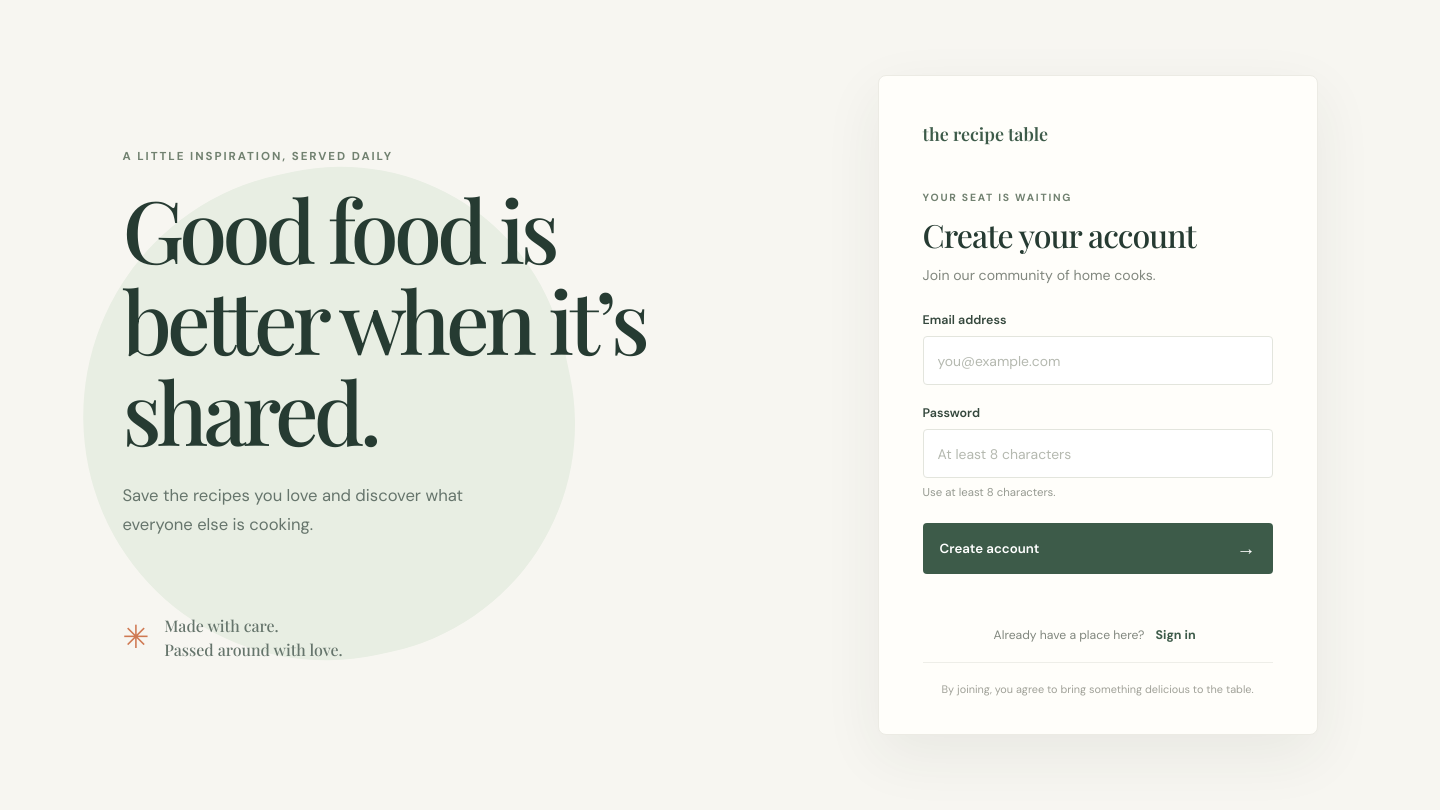
it: browser authentication › logs in through the cookie session and opens the recipe list
Click the button "Sign in". click: {"x": 1176, "y": 635}
box: left=1150, top=623, right=1202, bottom=647
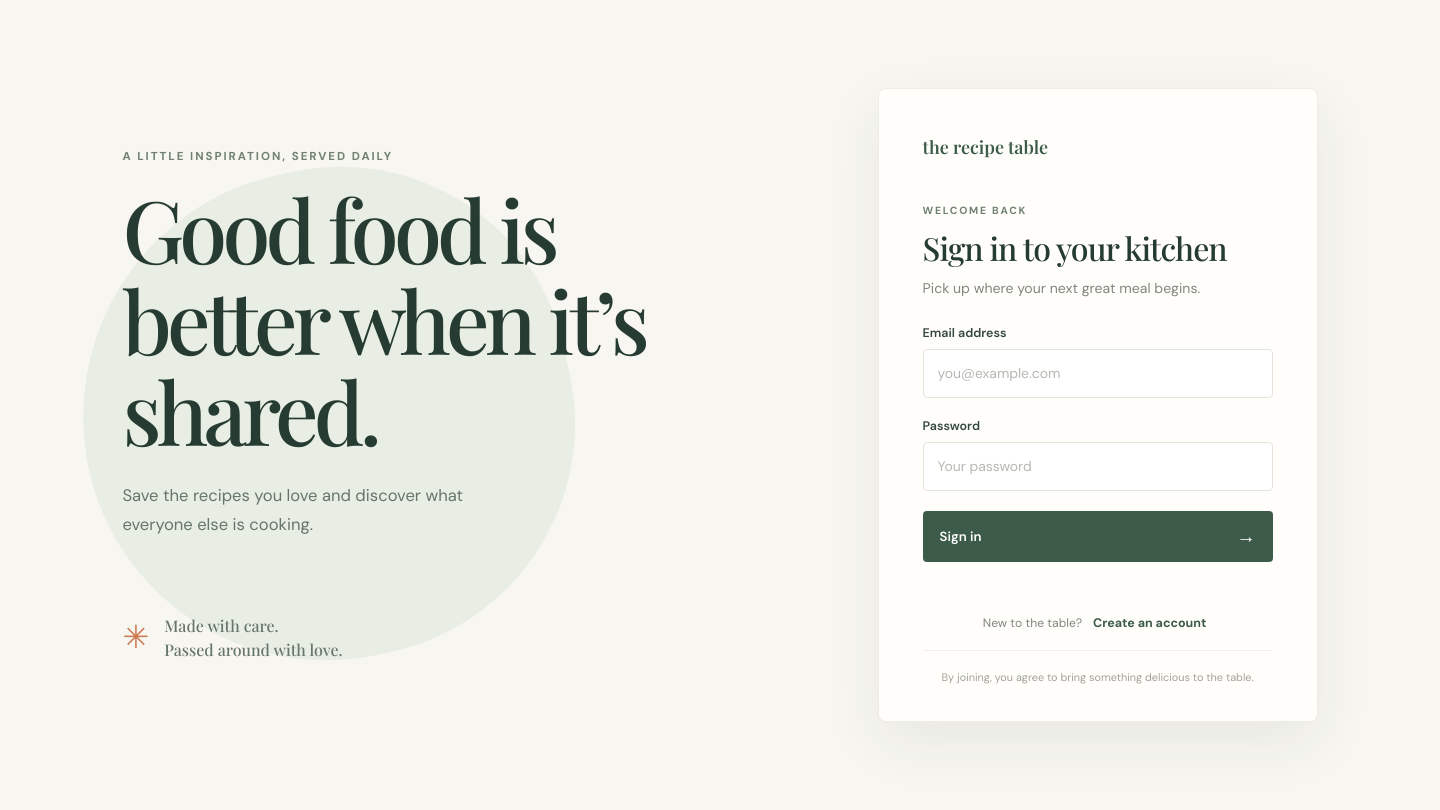
Type "cook@example.com" into the field labelled "Email address". click: {"x": 1098, "y": 373}
box: left=923, top=349, right=1273, bottom=398
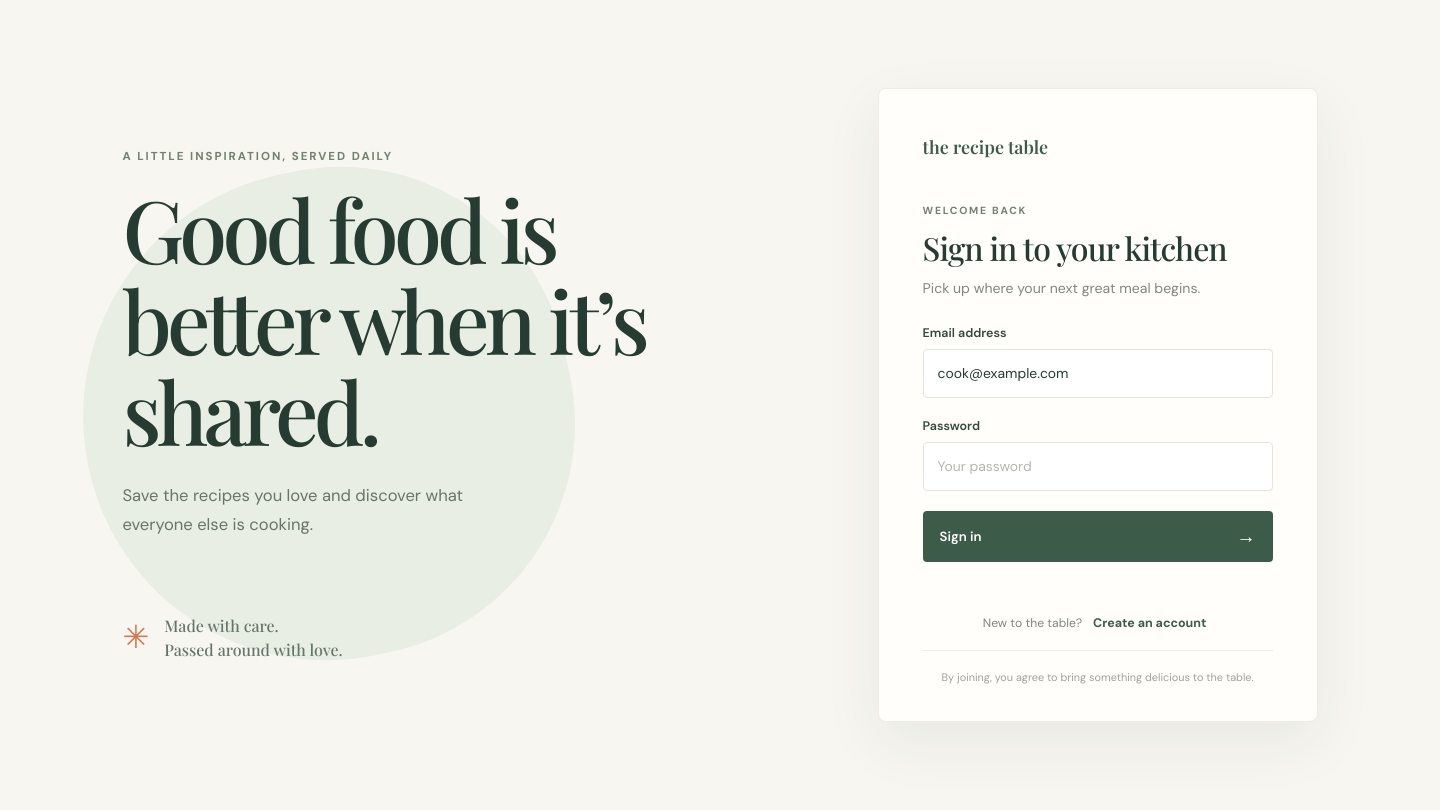
Type "good-password" into the password field labelled "Password". click: {"x": 1098, "y": 466}
box: left=923, top=442, right=1273, bottom=491
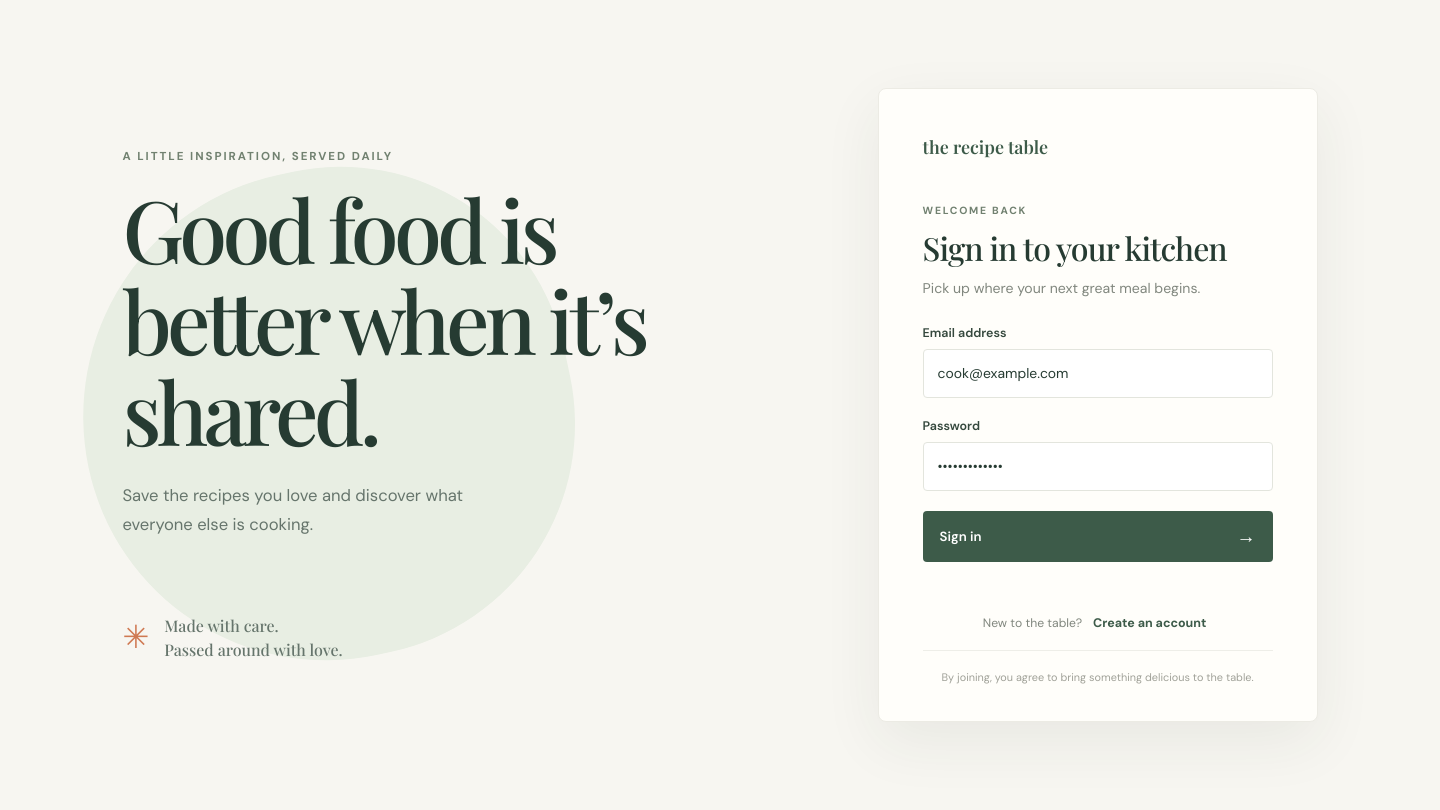
Click the button "Sign in →". click: {"x": 961, "y": 536}
box: left=923, top=511, right=1273, bottom=562
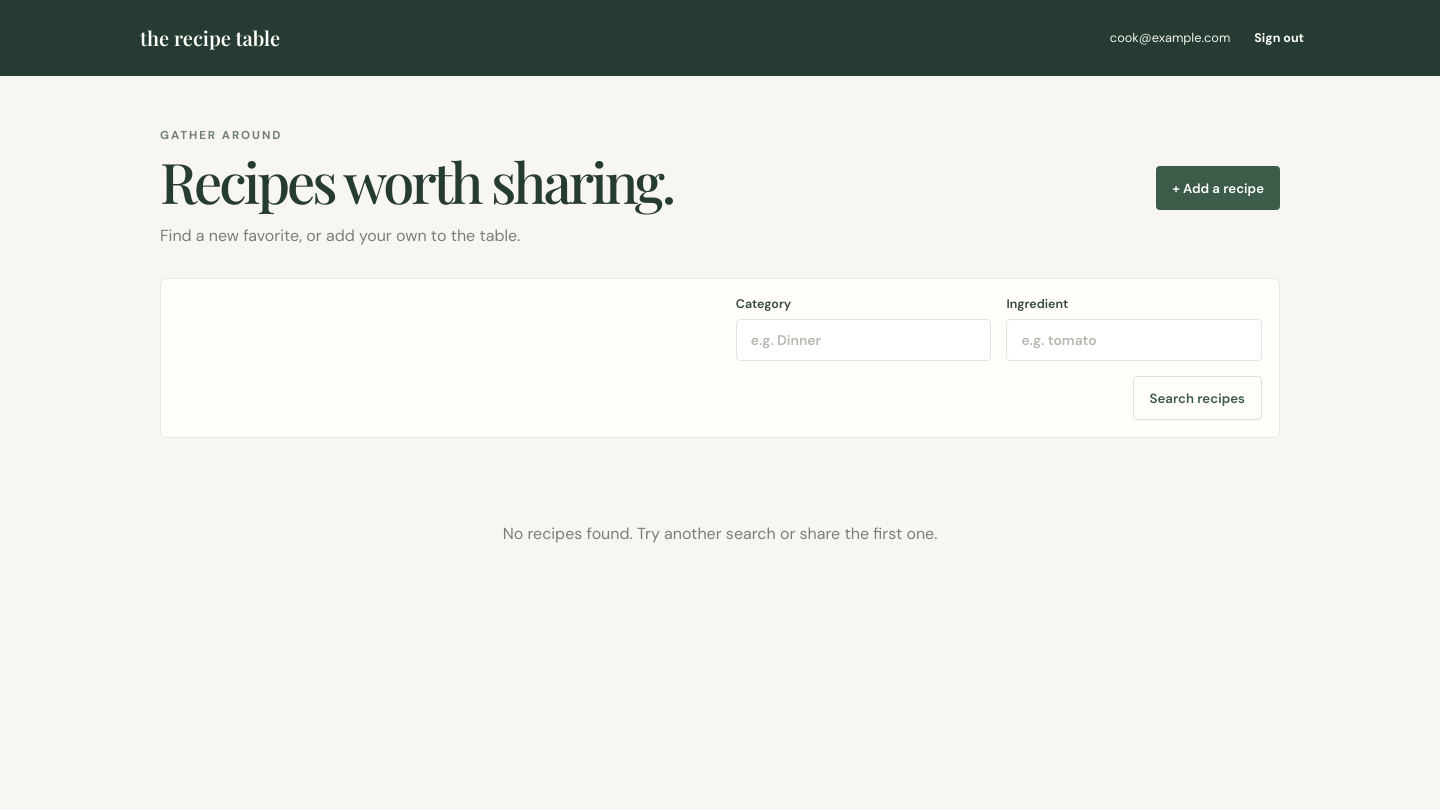
Check: the heading "Recipes worth sharing." is shown, box left=160, top=152, right=673, bottom=211
